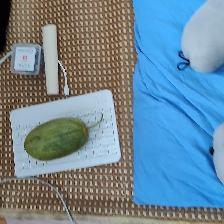gua: (14, 116, 95, 154)
